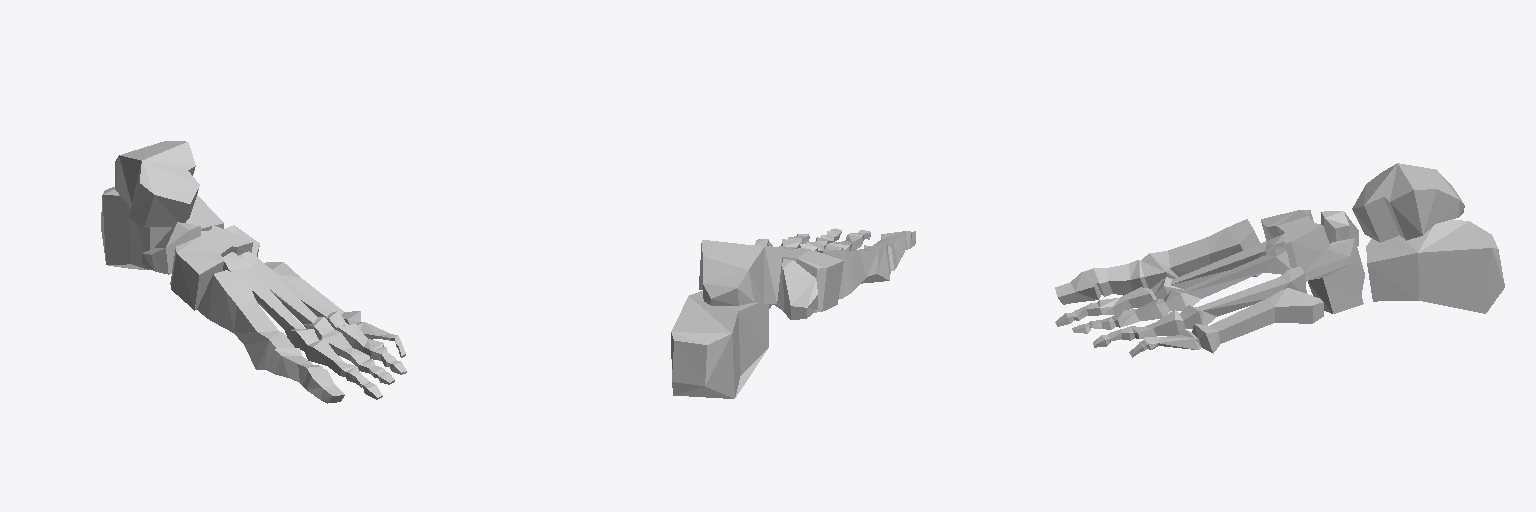
The model's file is FootL.obj.
3 views of the same model, side by side, from view 1: azimuth 30°, elevation 25°; view 2: azimuth 150°, elevation 25°; view 3: azimuth 270°, elevation 25° (orthographic).
Visible parts, largest first — view 1: FootL_skeleton.005; view 2: FootL_skeleton.005; view 3: FootL_skeleton.005.
Boxes of the visible parts, x1,y1,x2,y2 form: FootL_skeleton.005: [101, 141, 406, 403]; FootL_skeleton.005: [671, 228, 915, 398]; FootL_skeleton.005: [1055, 163, 1504, 357].
Bounding box in the file's own units: 0.4261 × 0.3473 × 1.08.